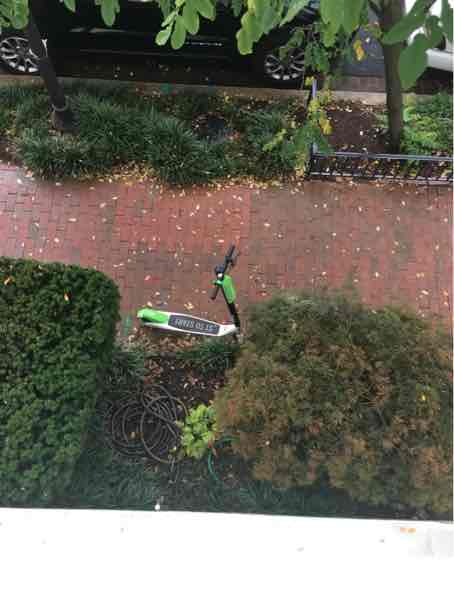scooter: (237, 142, 351, 247)
